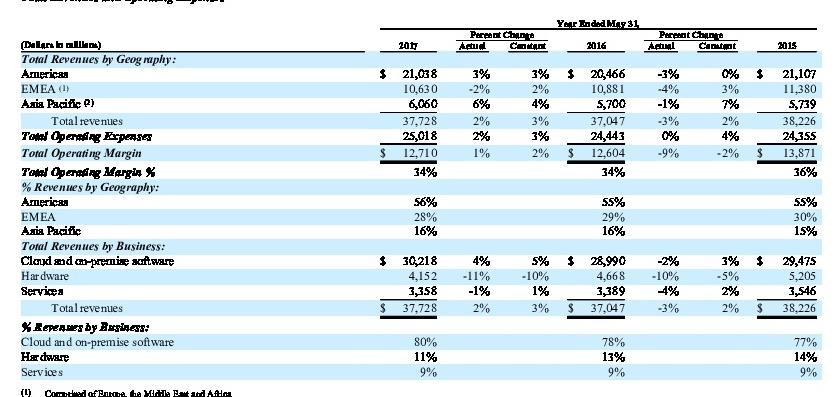table: (0, 0, 839, 397)
